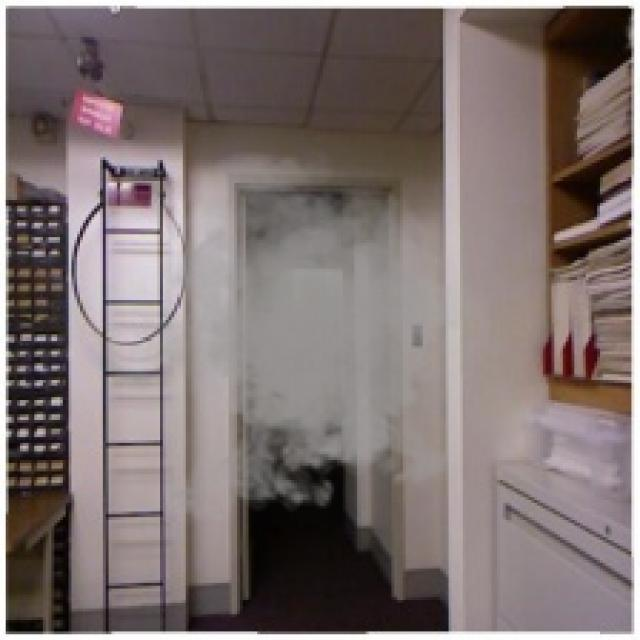Smoke: (106, 146, 508, 532)
